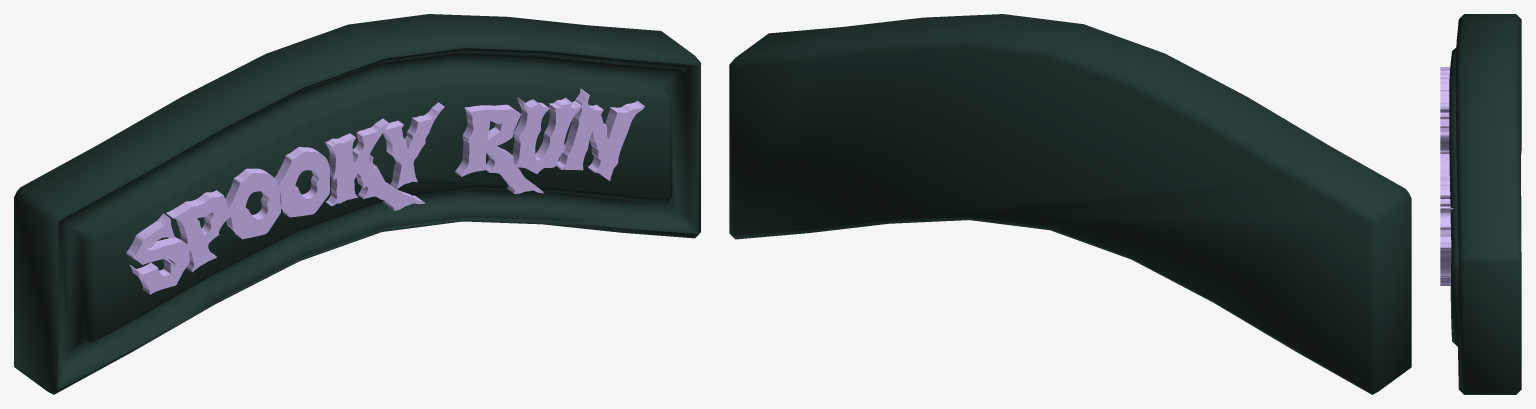
Rendered from Board.fbx.
3 renders of one model, left to right at view 1: azimuth 30°, elevation 25°; view 2: azimuth 150°, elevation 25°; view 3: azimuth 270°, elevation 25°, orthographic. The views are drawn at different scales.
Visible parts, largest first — view 1: Plane.050, Text; view 2: Plane.050; view 3: Plane.050, Text.
Part boxes in pixels (x1=…): Plane.050: x1=14, y1=14, x2=700, y2=394; Text: x1=126, y1=89, x2=644, y2=294; Plane.050: x1=729, y1=14, x2=1411, y2=394; Plane.050: x1=1449, y1=14, x2=1521, y2=394; Text: x1=1440, y1=67, x2=1453, y2=285.
Size of the model in its own units: 636 by 249 by 89.11.
